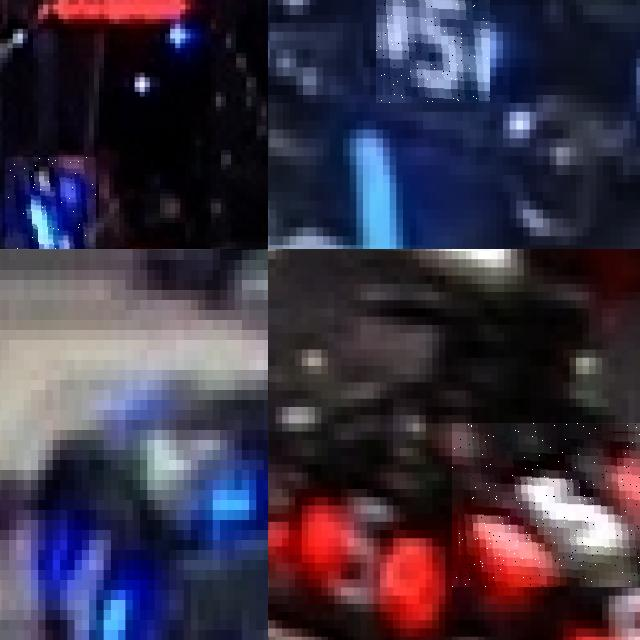B2: (4, 157, 96, 249)
B4: (93, 380, 260, 530), (19, 505, 136, 640)
B5: (376, 0, 489, 103)
R5: (452, 423, 640, 587), (279, 464, 455, 620)
